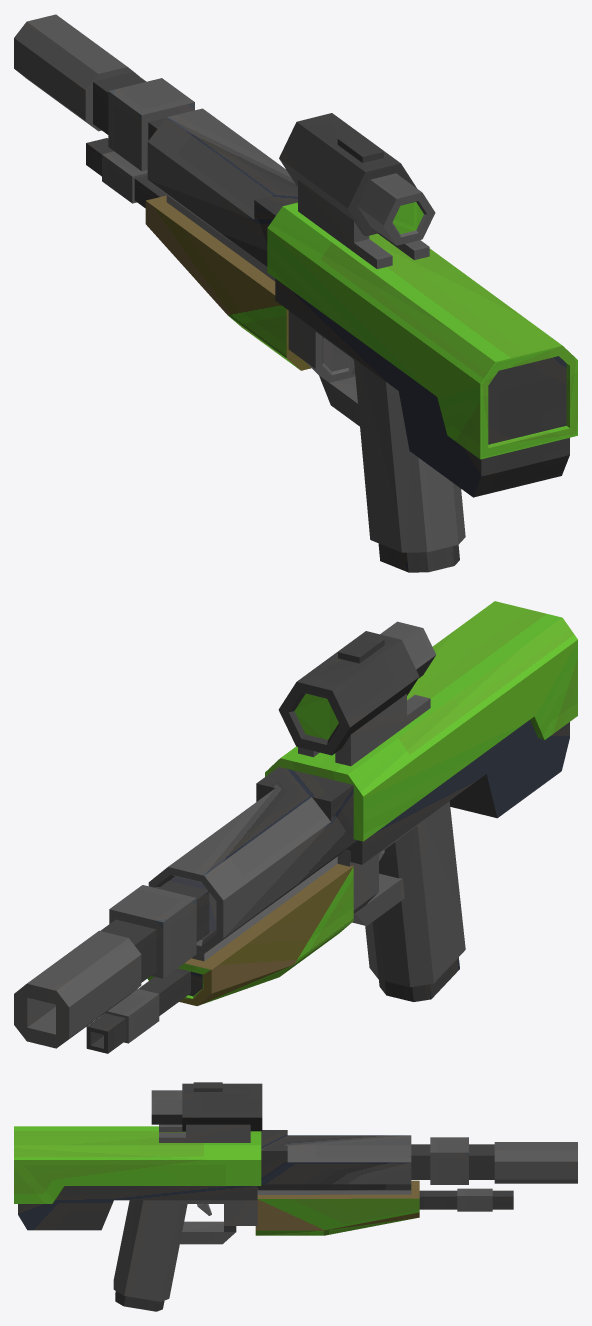
The model's file is smg_7.glb.
3 views of the same model, one above another, from view 1: azimuth 30°, elevation 25°; view 2: azimuth 150°, elevation 25°; view 3: azimuth 270°, elevation 25° (orthographic). The views are drawn at different scales.
Parts seen in each view (by area): view 1: subfusil_7_texture_0; view 2: subfusil_7_texture_0; view 3: subfusil_7_texture_0.
Boxes of the visible parts, x1,y1,x2,y2 form: subfusil_7_texture_0: (14, 14, 577, 572); subfusil_7_texture_0: (14, 601, 577, 1053); subfusil_7_texture_0: (14, 1082, 577, 1311).
Bounding box in the file's own units: 0.0683 × 0.2532 × 0.5879.
1 material, 1 textured.
